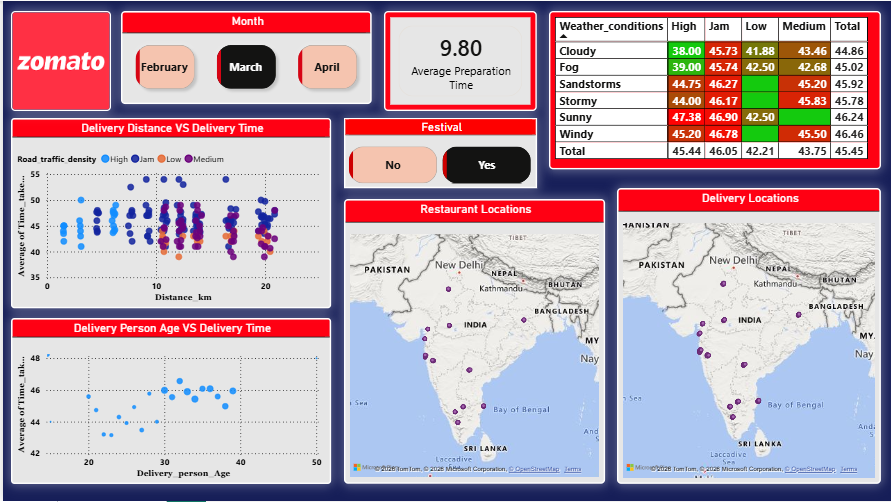

The dashboard page shown, as its layout file describes it:
{"tool":"powerbi","page":{"name":"First Page","canvas":[1280,720],"ordinal":0},"visuals":[{"type":"pivotTable","fields":{"Rows":["Zomato Dataset.Weather_conditions"],"Columns":["Zomato Dataset.Road_traffic_density"],"Values":["Avg(Zomato Dataset.Time_taken (min))"]},"box":[786.2,14.4,478.1,227.5],"z":0},{"type":"scatterChart","title":"Delivery Person Age VS Delivery Time","fields":{"Y":["Avg(Zomato Dataset.Time_taken (min))"],"Size":["Count(Zomato Dataset.ID)"],"X":["Zomato Dataset.Delivery_person_Age"]},"box":[11.5,456.5,460.8,239],"z":1000},{"type":"scatterChart","title":"Delivery Distance VS Delivery Time","fields":{"X":["Zomato Dataset.Distance_km"],"Y":["Avg(Zomato Dataset.Time_taken (min))"],"Series":["Zomato Dataset.Road_traffic_density"]},"box":[11.5,168.5,460.8,273.6],"z":2000},{"type":"image","box":[11.5,14.4,144,144],"z":3000},{"type":"advancedSlicerVisual","fields":{"Values":["Zomato Dataset.Order_Date.Variation.Date Hierarchy.Month"]},"box":[169.9,14.4,361.4,133.9],"z":4000},{"type":"map","title":"Restaurant Locations","fields":{"Y":["Zomato Dataset.Restaurant_latitude"],"X":["Zomato Dataset.Restaurant_longitude"]},"box":[491,285.1,375.8,410.4],"z":5000},{"type":"map","title":"Delivery Locations","fields":{"X":["Zomato Dataset.Delivery_location_longitude"],"Y":["Zomato Dataset.Delivery_location_latitude"]},"box":[884.2,269.3,380.2,426.2],"z":6000},{"type":"cardVisual","fields":{"Data":["Avg(Zomato Dataset.Prep_Time_Minutes)"]},"box":[548.6,14.4,220.3,144],"z":7000},{"type":"advancedSlicerVisual","fields":{"Values":["Zomato Dataset.Festival"]},"box":[491,168.5,277.9,100.8],"z":8000}]}

Visuals, with their boxes in screenshot pixels (x1, y1, x2, y2), scaled from the page's 1280x720 canvas onto the 891x502 screenshot:
pivotTable - Zomato Dataset.Weather_conditions x Zomato Dataset.Road_traffic_density: <region>547, 10, 880, 169</region>
"Delivery Person Age VS Delivery Time" scatterChart: <region>8, 318, 329, 485</region>
"Delivery Distance VS Delivery Time" scatterChart: <region>8, 117, 329, 308</region>
image: <region>8, 10, 108, 110</region>
advancedSlicerVisual - Zomato Dataset.Order_Date.Variation.Date Hierarchy.Month: <region>118, 10, 370, 103</region>
"Restaurant Locations" map: <region>342, 199, 603, 485</region>
"Delivery Locations" map: <region>615, 188, 880, 485</region>
cardVisual - Avg(Zomato Dataset.Prep_Time_Minutes): <region>382, 10, 535, 110</region>
advancedSlicerVisual - Zomato Dataset.Festival: <region>342, 117, 535, 188</region>
